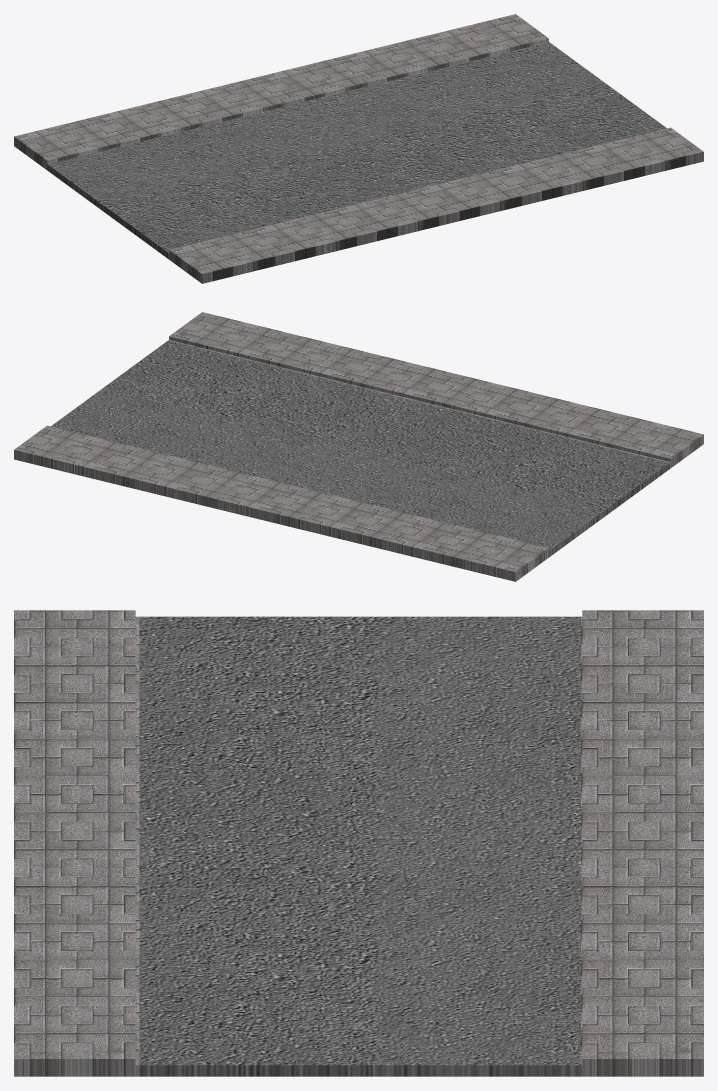
File: rua_normal.fbx
3 renders of one model, top to bottom at view 1: azimuth 30°, elevation 25°; view 2: azimuth 150°, elevation 25°; view 3: azimuth 270°, elevation 25°, orthographic. The views are drawn at different scales.
Parts seen in each view (by area): view 1: pCube1; view 2: pCube1; view 3: pCube1.
Part boxes in pixels (box(x1,y1,x2,y2)): pCube1: box(14, 14, 703, 283); pCube1: box(14, 312, 703, 581); pCube1: box(14, 610, 703, 1076).
Size of the model in its own units: 58.17 by 1.07 by 37.8.
